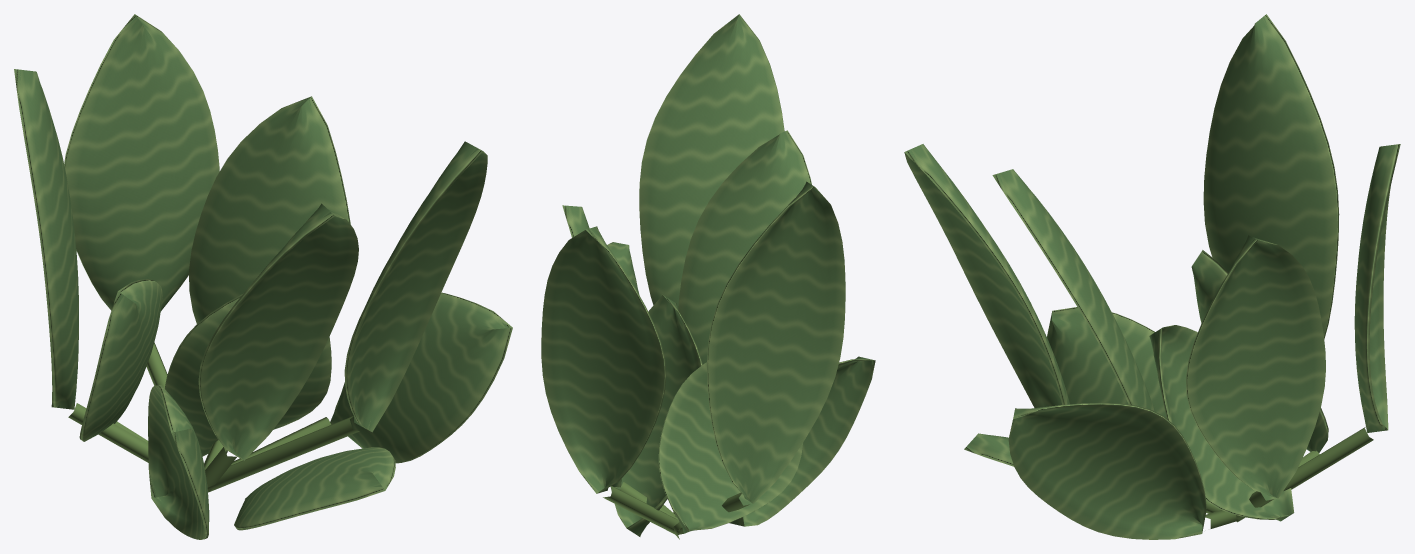
Rendered from sansevieria-stage-4.glb.
3 views of the same model, side by side, from view 1: azimuth 30°, elevation 25°; view 2: azimuth 150°, elevation 25°; view 3: azimuth 270°, elevation 25° (orthographic). The views are drawn at different scales.
Parts seen in each view (by area): view 1: Leaf_9, Leaf_7, Leaf_6, Leaf_8, Leaf_3, Leaf_5, Leaf_0, Leaf_4, Leaf_2, PlantBranches, Leaf_1; view 2: Leaf_5, Leaf_9, Leaf_8, Leaf_7, Leaf_4, Leaf_2, Leaf_1, PlantBranches, Leaf_6, Leaf_3; view 3: Leaf_6, Leaf_5, Leaf_3, Leaf_8, Leaf_9, Leaf_7, Leaf_1, Leaf_2, PlantBranches, Leaf_4, Leaf_0.
Part boxes in pixels (x1,y1,x2,y2): Leaf_9: (64, 14, 219, 311); Leaf_7: (198, 203, 358, 460); Leaf_6: (189, 96, 350, 323); Leaf_8: (344, 141, 487, 432); Leaf_3: (330, 292, 512, 463); Leaf_5: (14, 69, 78, 409); Leaf_0: (234, 447, 395, 530); Leaf_4: (79, 279, 162, 441); Leaf_2: (148, 385, 209, 539); PlantBranches: (68, 342, 359, 492); Leaf_1: (165, 293, 331, 456); Leaf_5: (707, 181, 845, 503); Leaf_9: (541, 226, 666, 493); Leaf_8: (639, 14, 784, 309); Leaf_7: (678, 130, 811, 364); Leaf_4: (658, 362, 802, 533); Leaf_2: (729, 356, 875, 526); Leaf_1: (610, 295, 702, 536); PlantBranches: (603, 482, 749, 539); Leaf_6: (562, 205, 621, 487); Leaf_3: (607, 242, 639, 294); Leaf_6: (1186, 234, 1325, 498); Leaf_5: (1203, 14, 1339, 338); Leaf_3: (1008, 403, 1206, 539); Leaf_8: (904, 144, 1069, 407); Leaf_9: (1354, 144, 1400, 432); Leaf_7: (992, 169, 1155, 411); Leaf_1: (1149, 325, 1294, 521); Leaf_2: (1047, 307, 1166, 418); PlantBranches: (1205, 427, 1373, 528); Leaf_4: (1191, 250, 1328, 452); Leaf_0: (964, 433, 1013, 466).
Bounding box in the file's own units: 1.21 × 1.41 × 1.47.
Materials: 2 (1 with a texture image).
